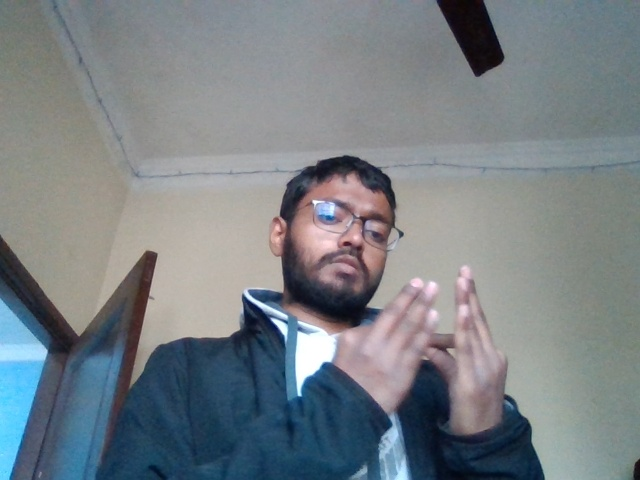family: (331, 276, 511, 429)
